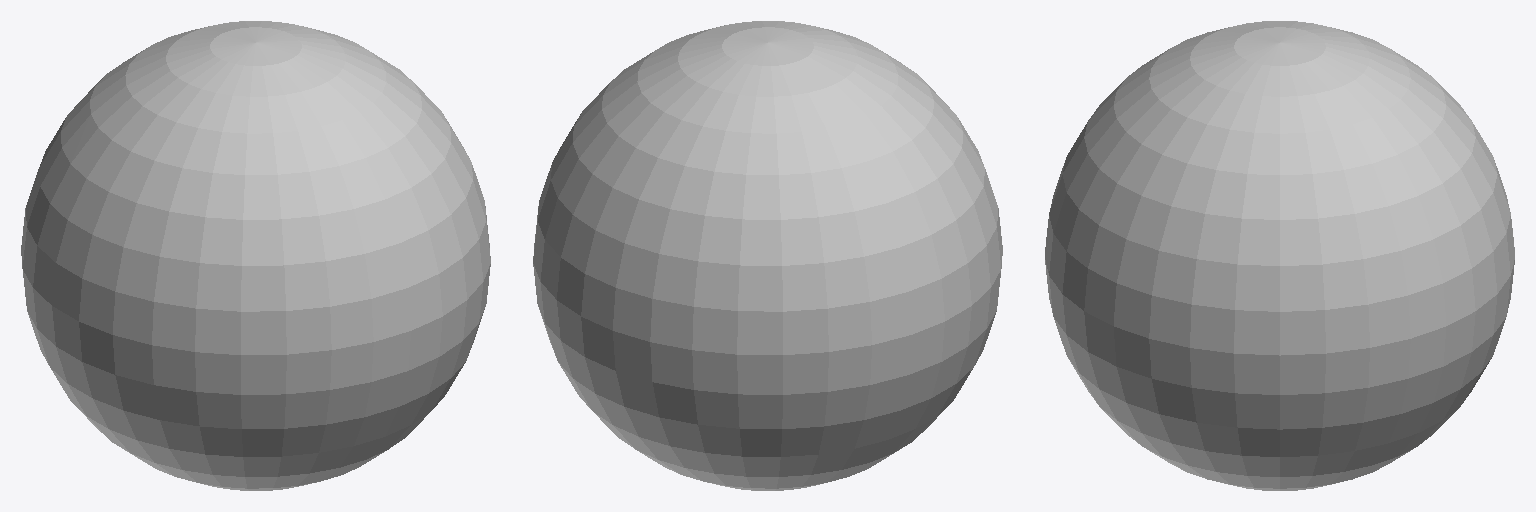
The model's file is eyeball2.obj.
3 views of the same model, side by side, from view 1: azimuth 30°, elevation 25°; view 2: azimuth 150°, elevation 25°; view 3: azimuth 270°, elevation 25° (orthographic).
Parts seen in each view (by area): view 1: Sphere.003_Sphere.004; view 2: Sphere.003_Sphere.004; view 3: Sphere.003_Sphere.004.
Boxes of the visible parts, x1=… form: Sphere.003_Sphere.004: x1=21, y1=21, x2=490, y2=490; Sphere.003_Sphere.004: x1=533, y1=21, x2=1002, y2=490; Sphere.003_Sphere.004: x1=1045, y1=21, x2=1514, y2=490.
Size of the model in its own units: 0.3573 by 0.3573 by 0.3573.